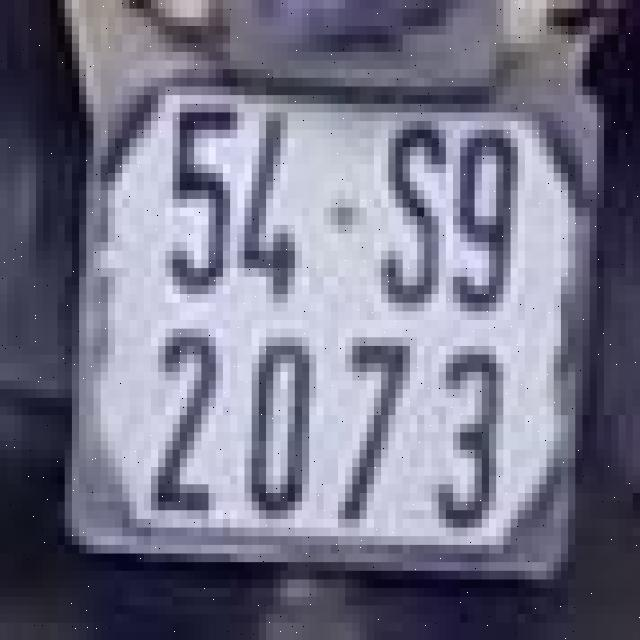0: (244, 324, 316, 524)
2: (140, 329, 227, 519)
3: (432, 324, 511, 532)
4: (233, 99, 306, 307)
5: (165, 100, 238, 298)
7: (331, 316, 417, 532)
9: (449, 108, 528, 316)
S: (378, 108, 450, 316)
